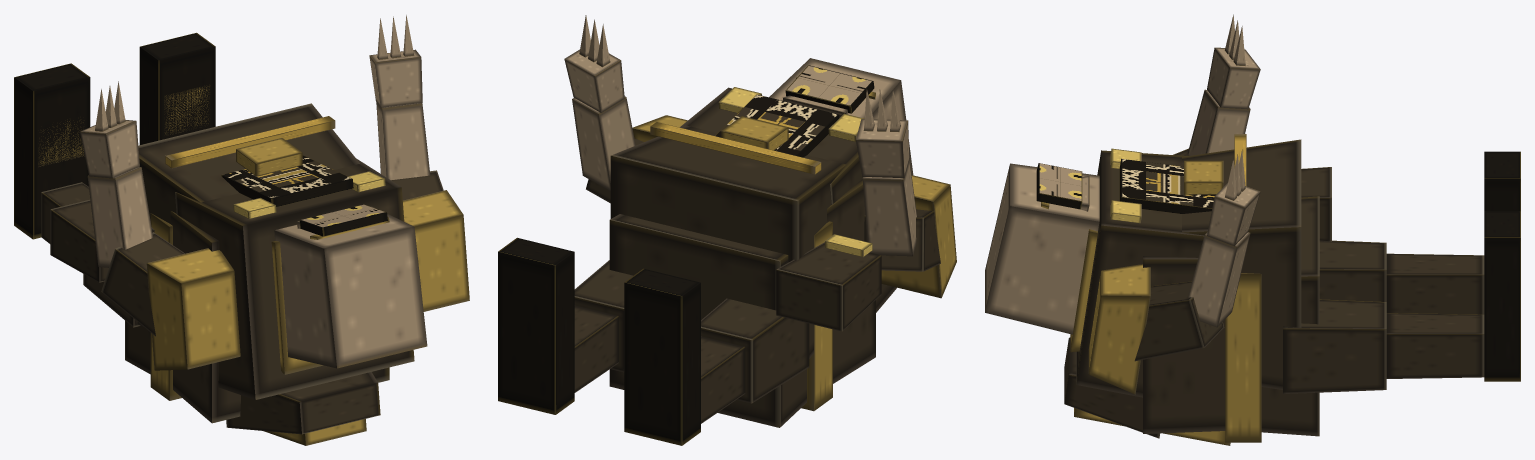
File: margor_neutral.obj
The picture shows the model from 3 angles, left to right: view 1: azimuth 30°, elevation 25°; view 2: azimuth 150°, elevation 25°; view 3: azimuth 270°, elevation 25°; orthographic projection. The views are drawn at different scales.
Visible parts, largest first — view 1: margor_neutral; view 2: margor_neutral; view 3: margor_neutral.
Boxes of the visible parts, x1,y1,x2,y2 form: margor_neutral: [14, 15, 469, 445]; margor_neutral: [498, 15, 956, 445]; margor_neutral: [985, 14, 1520, 445].
Bounding box in the file's own units: 0.7005 × 0.7042 × 1.
1 material, 1 textured.
